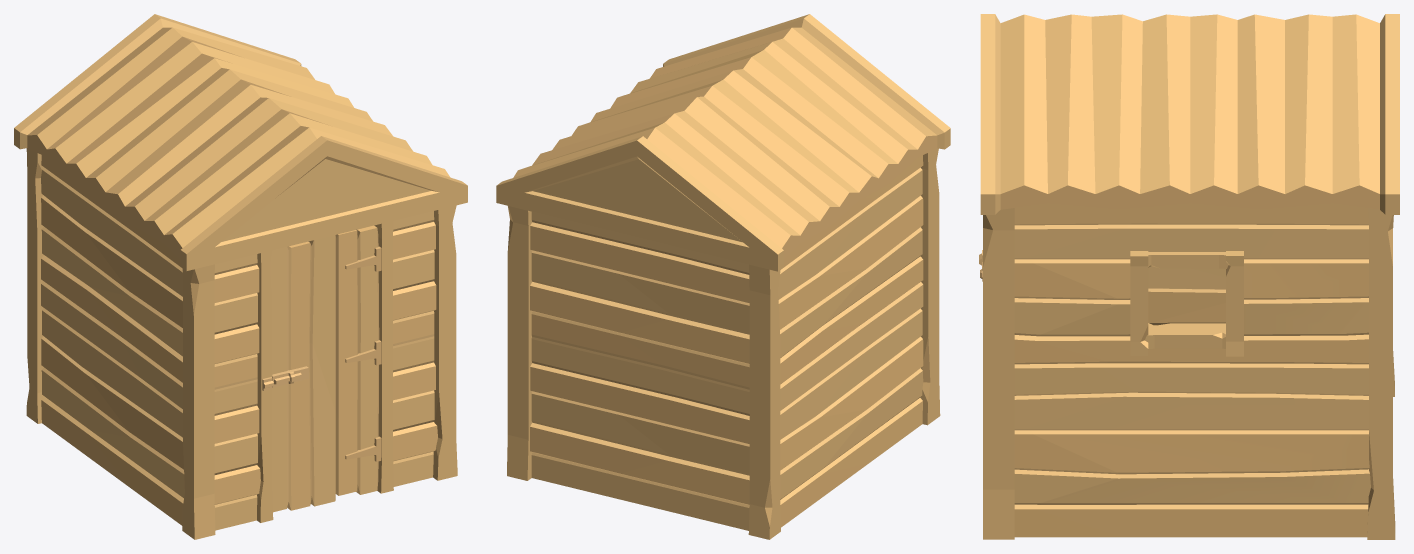
The model's file is pengshe.fbx.
3 views of the same model, side by side, from view 1: azimuth 30°, elevation 25°; view 2: azimuth 150°, elevation 25°; view 3: azimuth 270°, elevation 25° (orthographic). The views are drawn at different scales.
Visible parts, largest first — view 1: SM_Bld_GardenShed_01, SM_Bld_GardenShed_Door_01; view 2: SM_Bld_GardenShed_01; view 3: SM_Bld_GardenShed_01.
Boxes of the visible parts, <box> form: SM_Bld_GardenShed_01: <box>14,14,467,539</box>; SM_Bld_GardenShed_Door_01: <box>270,225,381,512</box>; SM_Bld_GardenShed_01: <box>496,14,950,539</box>; SM_Bld_GardenShed_01: <box>979,14,1399,539</box>.
Size of the model in its own units: 26.67 by 28.43 by 33.38.
Materials: 1 (1 with a texture image).
